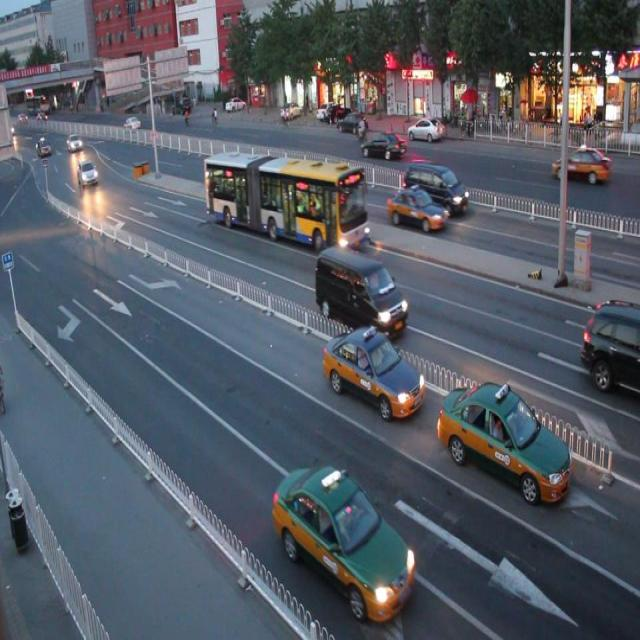car: (272, 465, 415, 622), (438, 379, 573, 505), (323, 327, 423, 416), (578, 297, 640, 398), (386, 184, 447, 236), (551, 144, 609, 185), (361, 128, 405, 158)
truck: (313, 246, 407, 336), (402, 162, 467, 214)
van: (204, 148, 366, 251)
